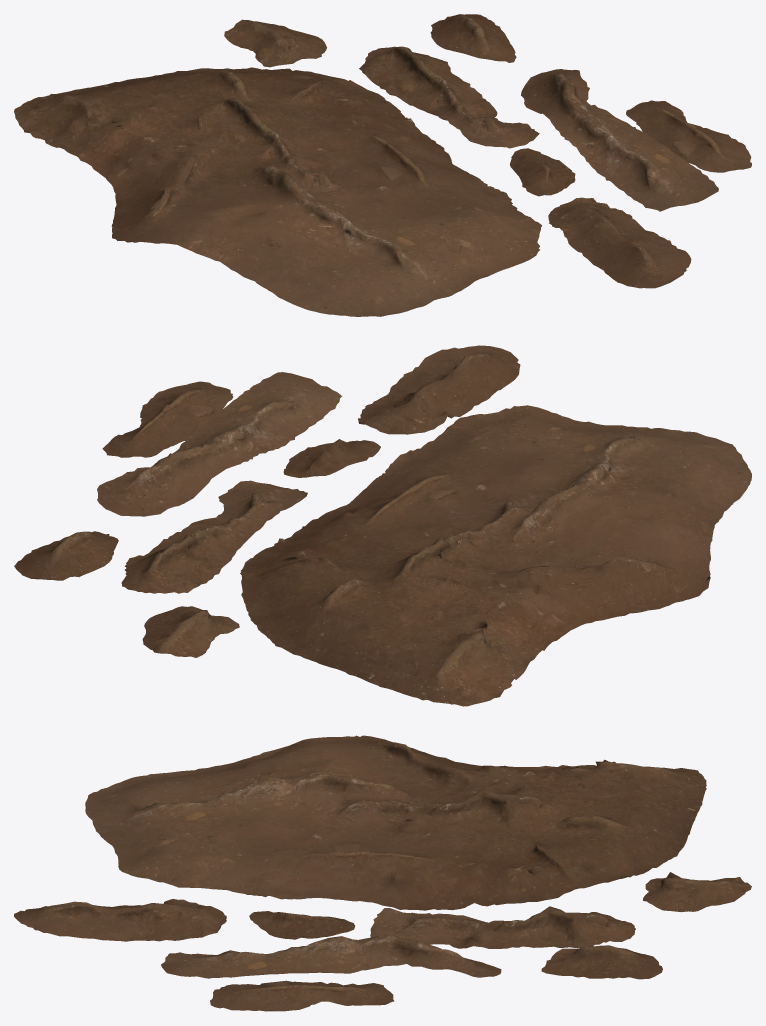
File: root_cluster_02.glb
3 renders of one model, top to bottom at view 1: azimuth 30°, elevation 25°; view 2: azimuth 150°, elevation 25°; view 3: azimuth 270°, elevation 25°, orthographic. The views are drawn at different scales.
Visible parts, largest first — view 1: root_cluster_02; view 2: root_cluster_02; view 3: root_cluster_02.
Part boxes in pixels (box(x1,y1,x2,y2)): root_cluster_02: box(14, 14, 751, 316); root_cluster_02: box(14, 345, 751, 706); root_cluster_02: box(14, 735, 751, 1011).
Bounding box in the file's own units: 2.38 × 0.1969 × 2.71.
Materials: 1 (1 with a texture image).
